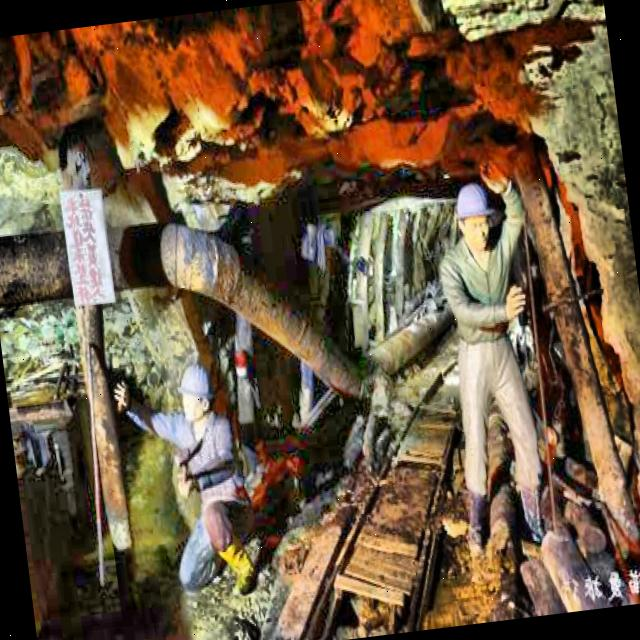helmet: (450, 172, 504, 257), (176, 358, 218, 428)
